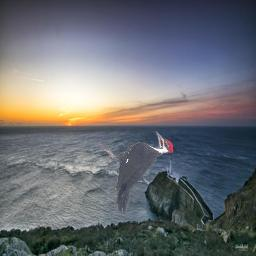Woodpecker: (103, 131, 175, 214)
